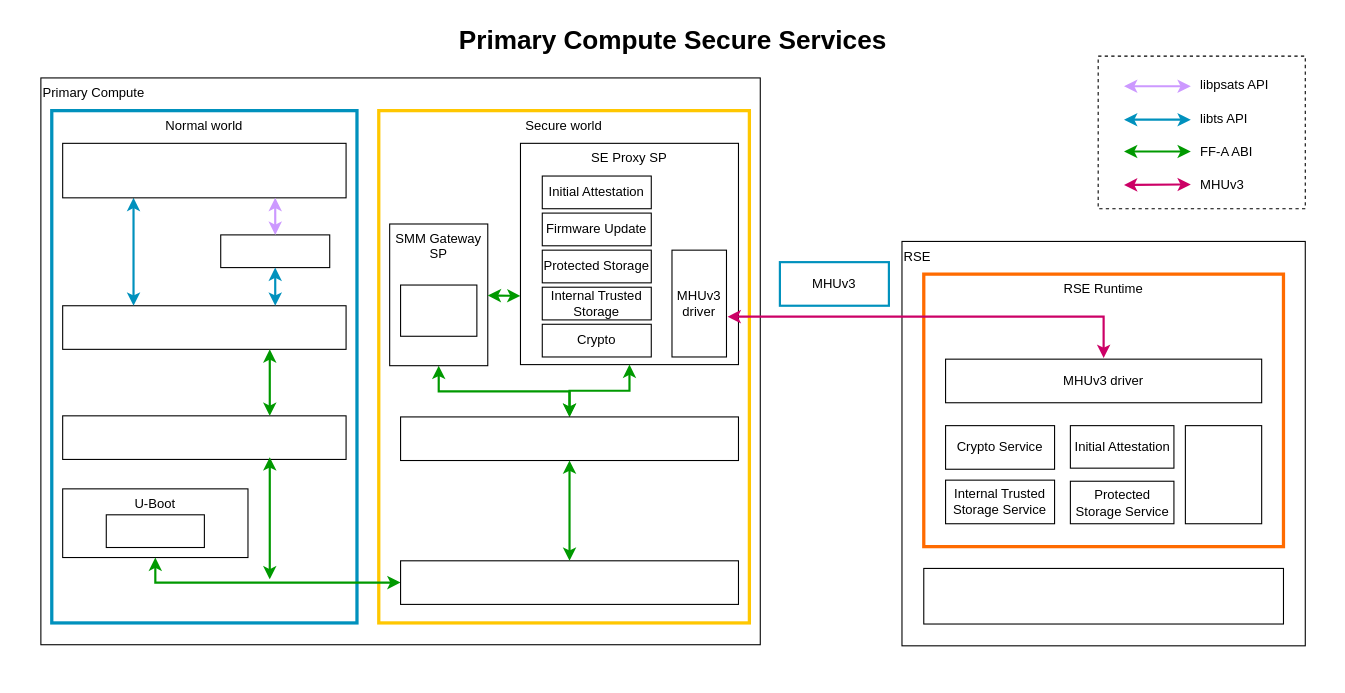
Image size: 1345x693. Some labels were removed from this diagram. Here are the shapes that lost their labels. From the top down, the centre of each, then its label:
At point (204, 170): "Applications".
At point (275, 251): "libpsats".
At point (204, 327): "libts".
At point (438, 310): "UEFI SMM Services".
At point (204, 437): "Linux kernel".
At point (568, 438): "OP-TEE".
At point (1223, 474): "Platform Service".
At point (154, 531): "FF-A driver".
At point (568, 582): "TF-A".
At point (1103, 595): "NVM Flash Storage".
